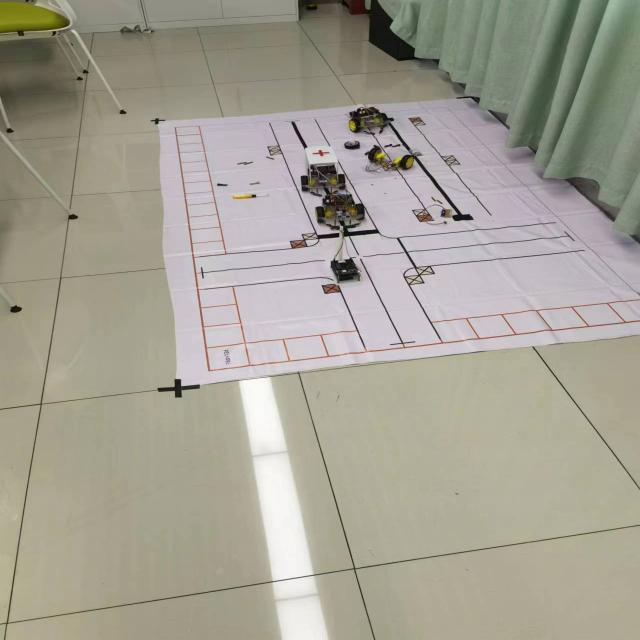RedCross: (309, 149, 331, 157)
